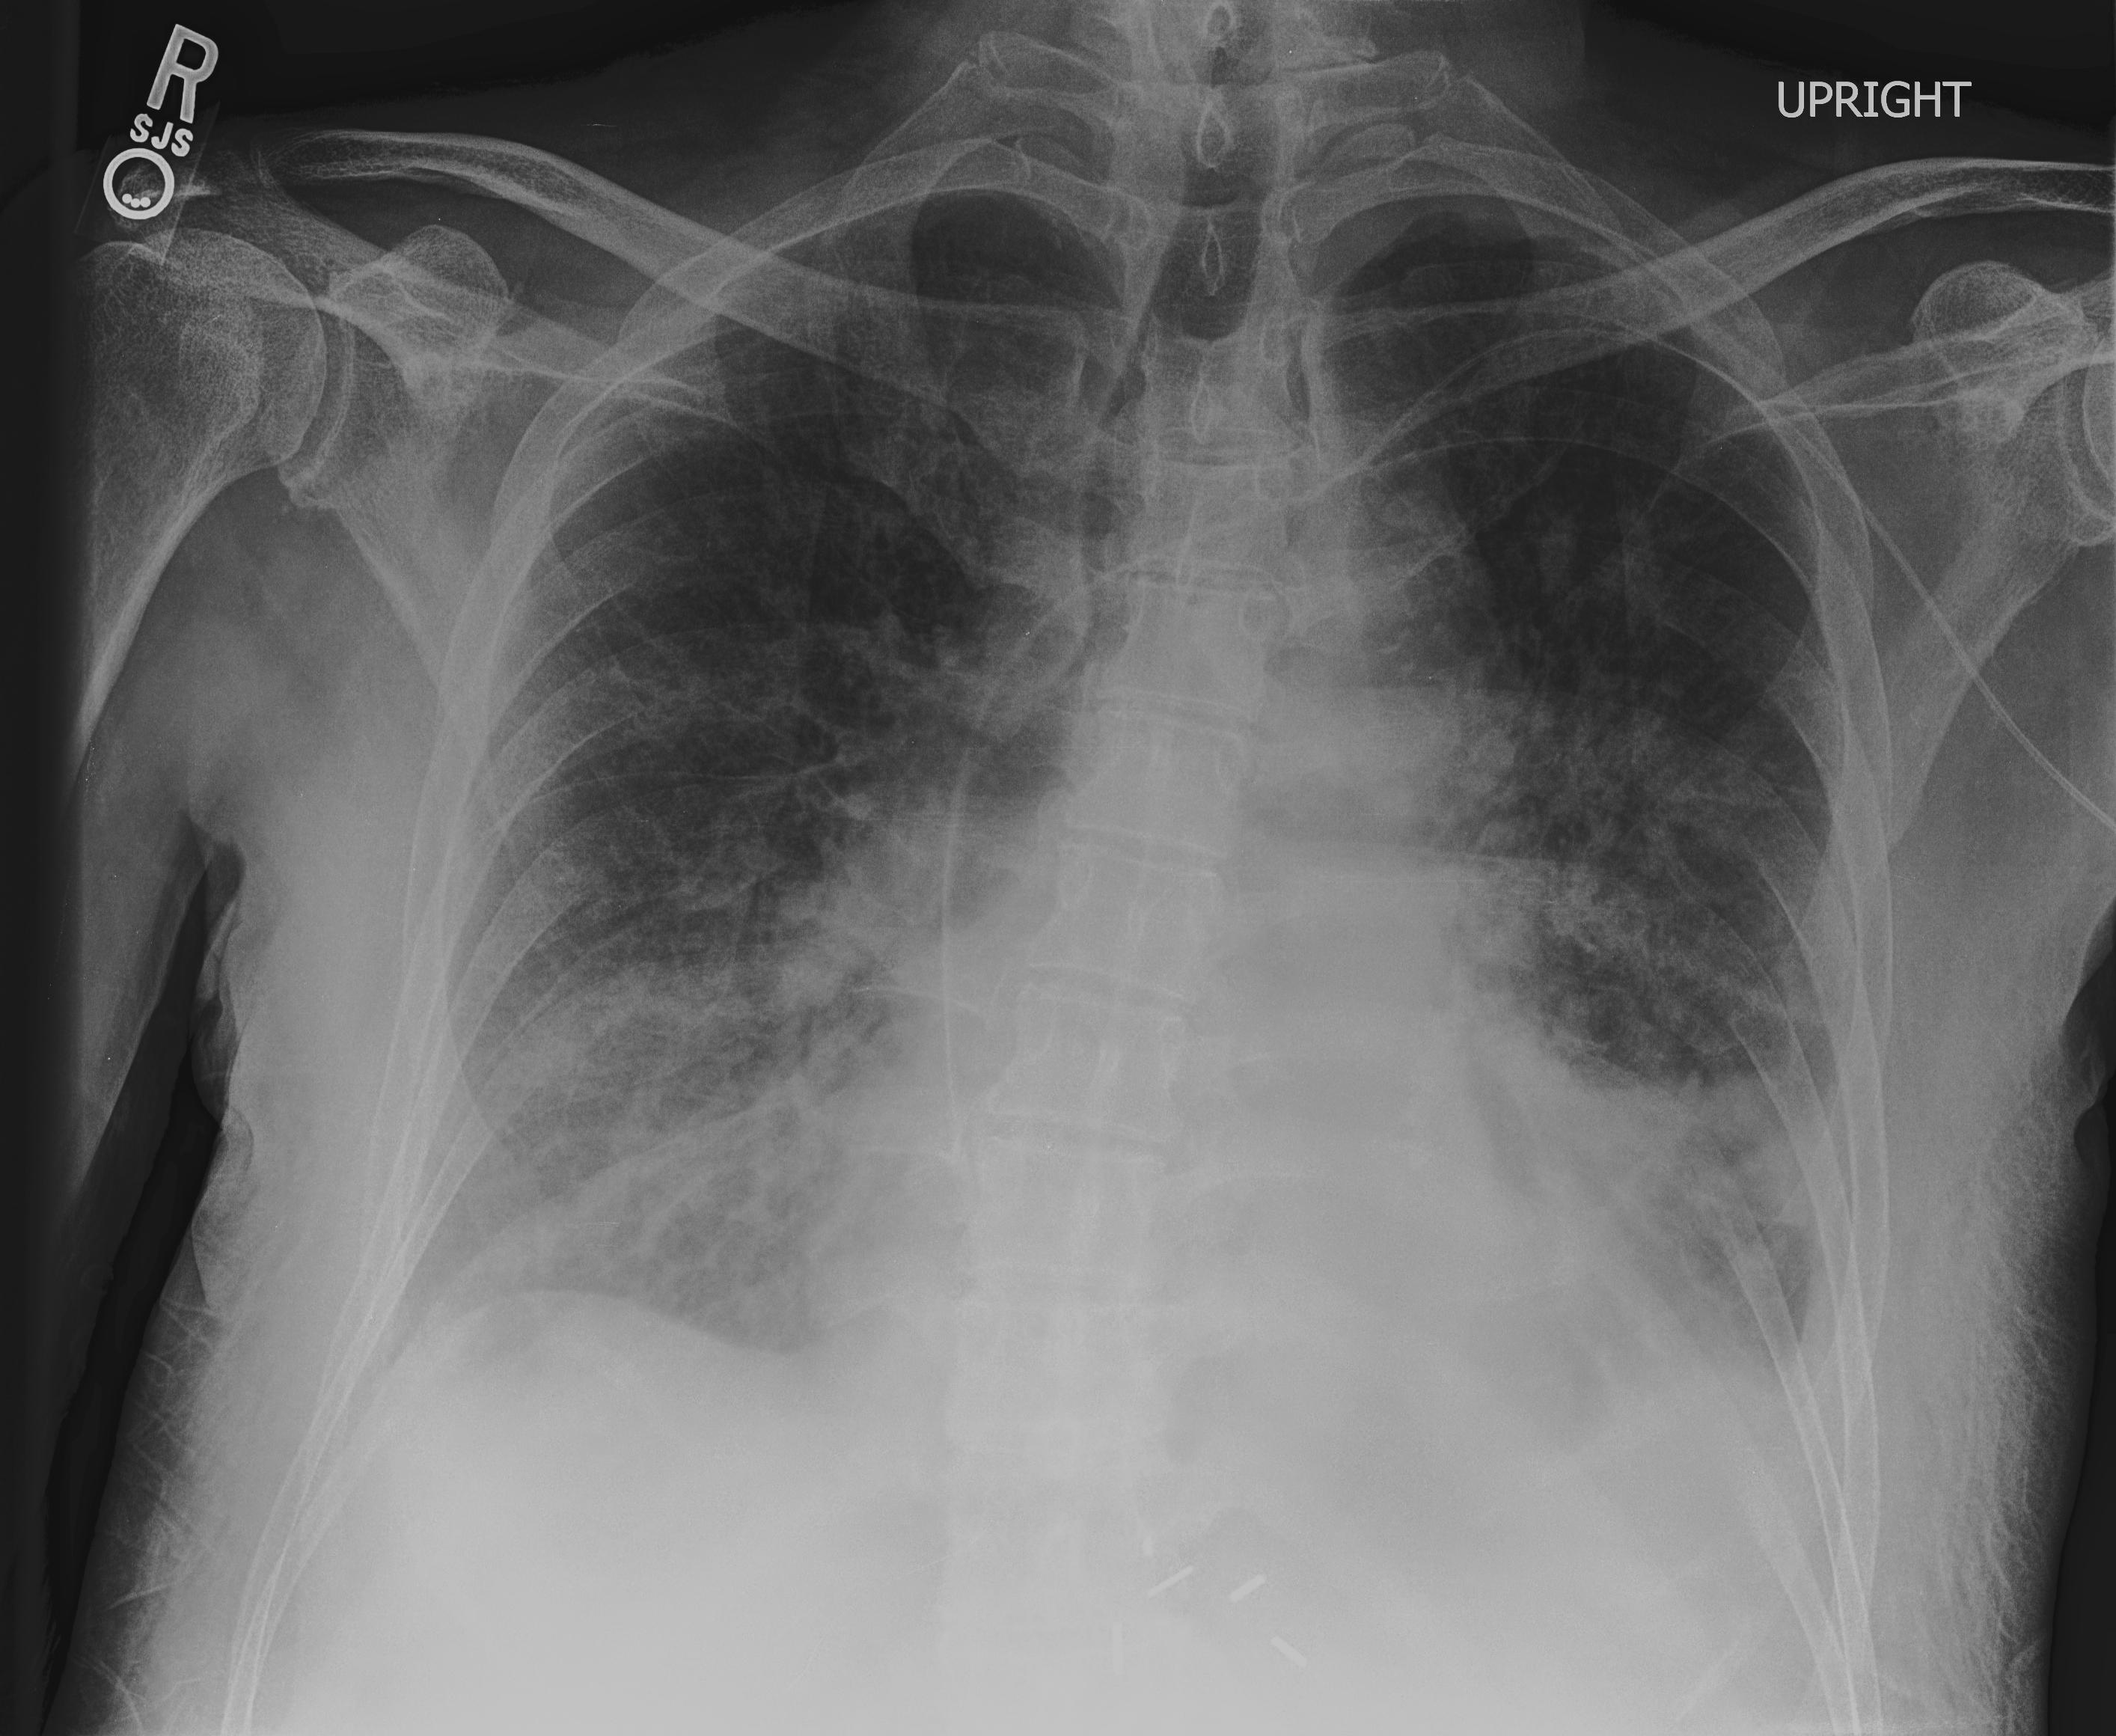Pleural Effusion: (1434, 1110, 1900, 1671)
